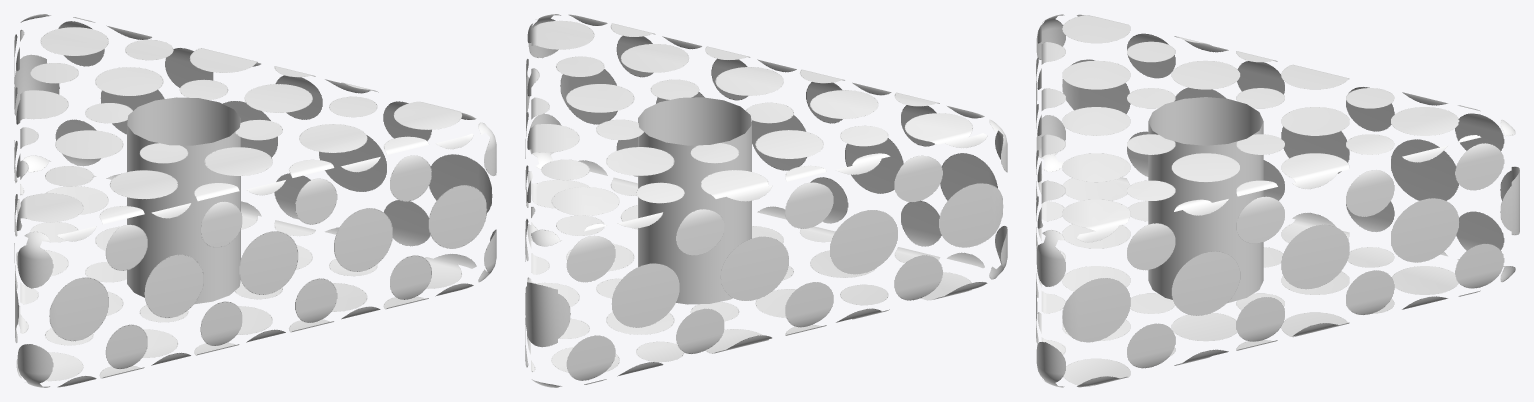
3 views of the same model, side by side, from view 1: azimuth 30°, elevation 25°; view 2: azimuth 150°, elevation 25°; view 3: azimuth 270°, elevation 25° (orthographic).
Visible parts, largest first — view 1: OriginalTriangle.012; view 2: OriginalTriangle.012; view 3: OriginalTriangle.012.
Boxes of the visible parts, box(x1,y1,x2,y2) form: OriginalTriangle.012: box(14, 14, 496, 387); OriginalTriangle.012: box(525, 14, 1007, 387); OriginalTriangle.012: box(1036, 14, 1519, 387).
Size of the model in its own units: 222 by 71.37 by 197.
